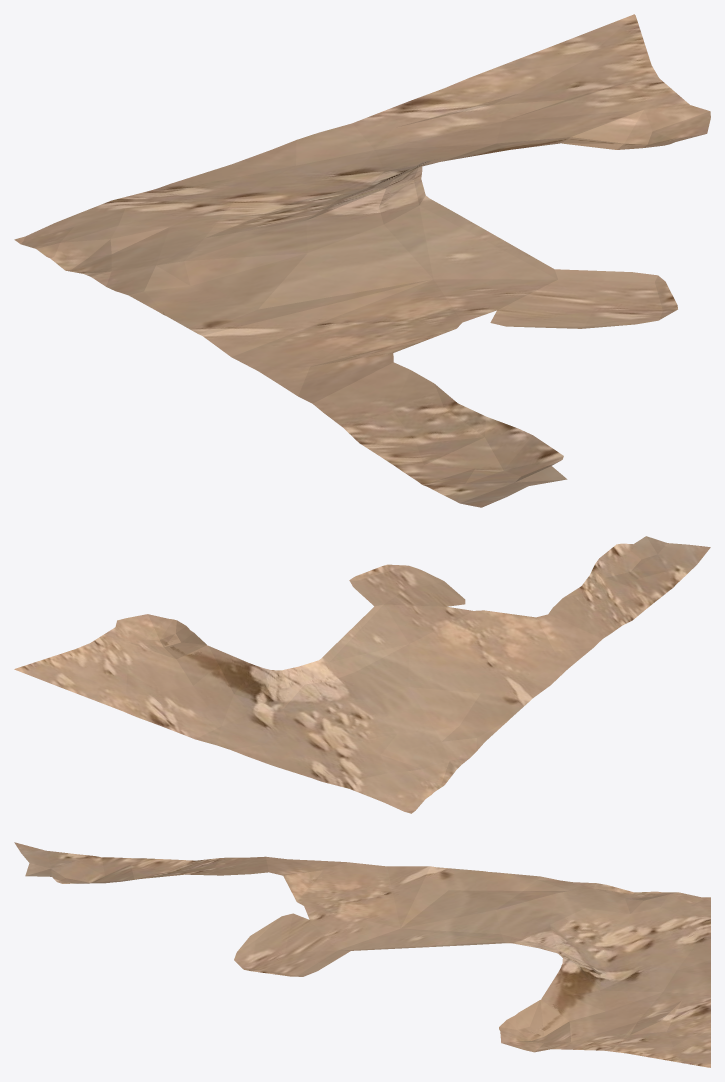
3 renders of one model, top to bottom at view 1: azimuth 30°, elevation 25°; view 2: azimuth 150°, elevation 25°; view 3: azimuth 270°, elevation 25°, orthographic. The views are drawn at different scales.
Size of the model in its own units: 0.7776 by 0.0887 by 1.01.
Materials: 1 (1 with a texture image).
